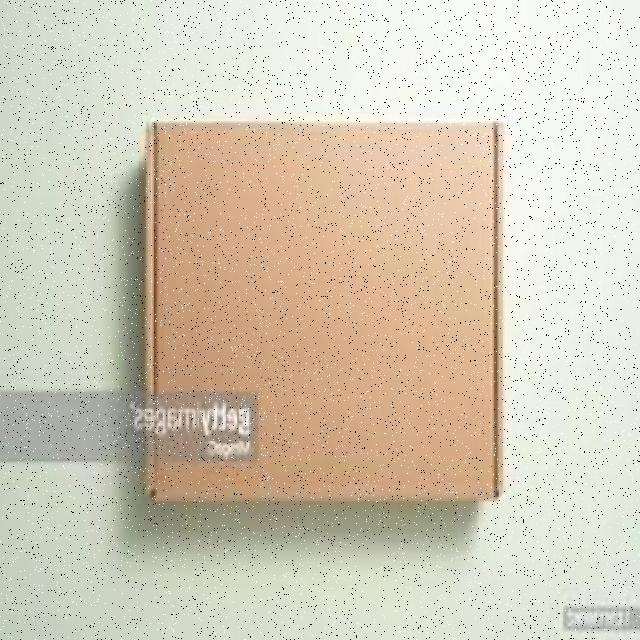normal: (137, 112, 514, 510)
